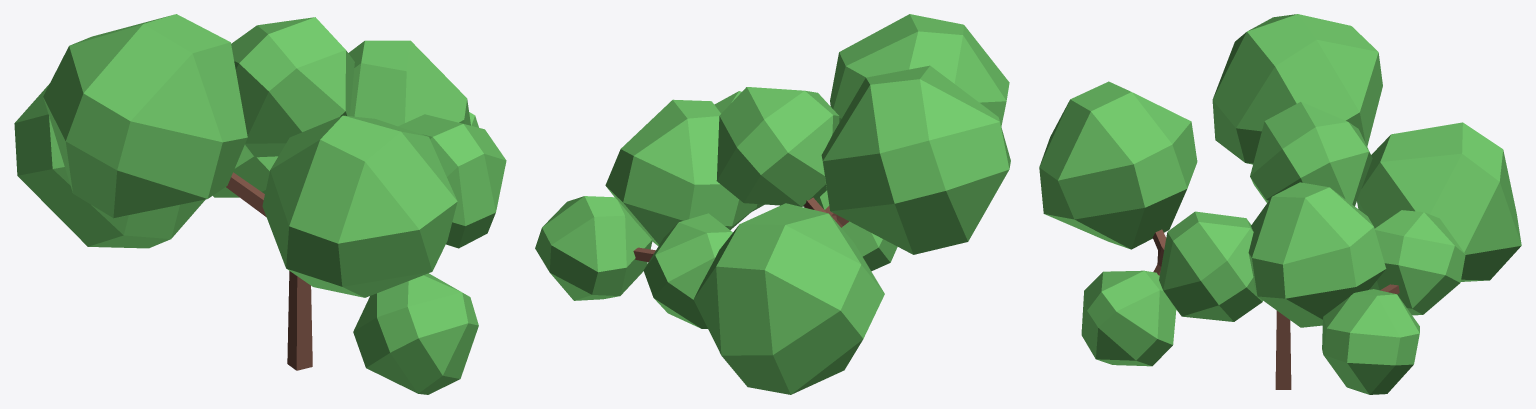
The model's file is Tree2.fbx.
The picture shows the model from 3 angles, left to right: view 1: azimuth 30°, elevation 25°; view 2: azimuth 150°, elevation 25°; view 3: azimuth 270°, elevation 25°; orthographic projection. The views are drawn at different scales.
Parts seen in each view (by area): view 1: leafs, tree; view 2: leafs, tree; view 3: leafs, tree.
Boxes of the visible parts, x1,y1,x2,y2 form: leafs: (14,14,506,394); tree: (226,172,312,370); leafs: (535,14,1010,394); tree: (633,197,848,262); leafs: (1039,14,1521,394); tree: (1152,229,1399,389).
Size of the model in its own units: 14.27 by 15.41 by 10.99.
